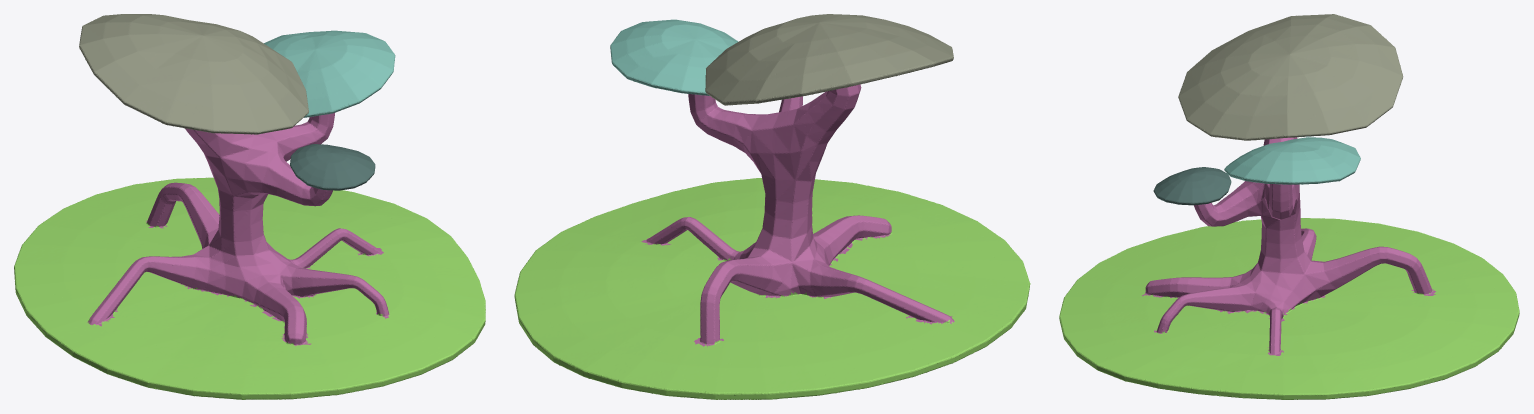
3 renders of one model, left to right at view 1: azimuth 30°, elevation 25°; view 2: azimuth 150°, elevation 25°; view 3: azimuth 270°, elevation 25°, orthographic. The views are drawn at different scales.
Parts seen in each view (by area): view 1: world; view 2: world; view 3: world.
Part boxes in pixels (bbox=[...]): world: bbox=[14, 14, 485, 399]; world: bbox=[514, 14, 1030, 399]; world: bbox=[1059, 14, 1519, 399].
Bounding box in the file's own units: 1.74 × 1.13 × 1.91.
